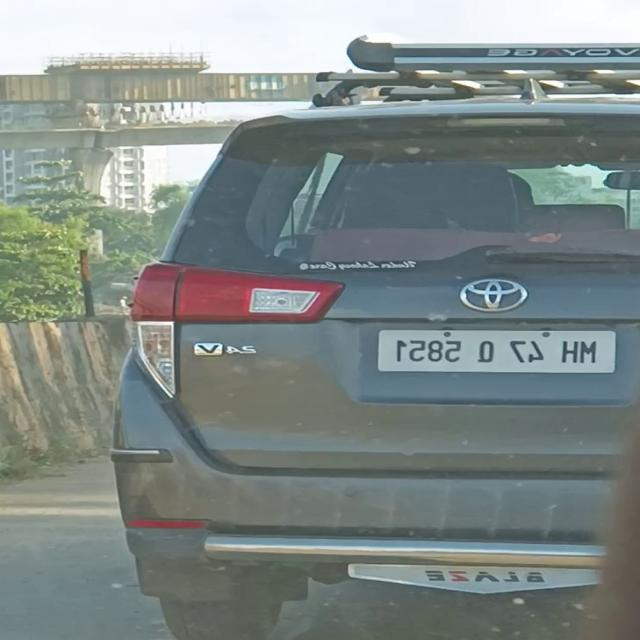license_plate: (371, 326, 621, 379)
